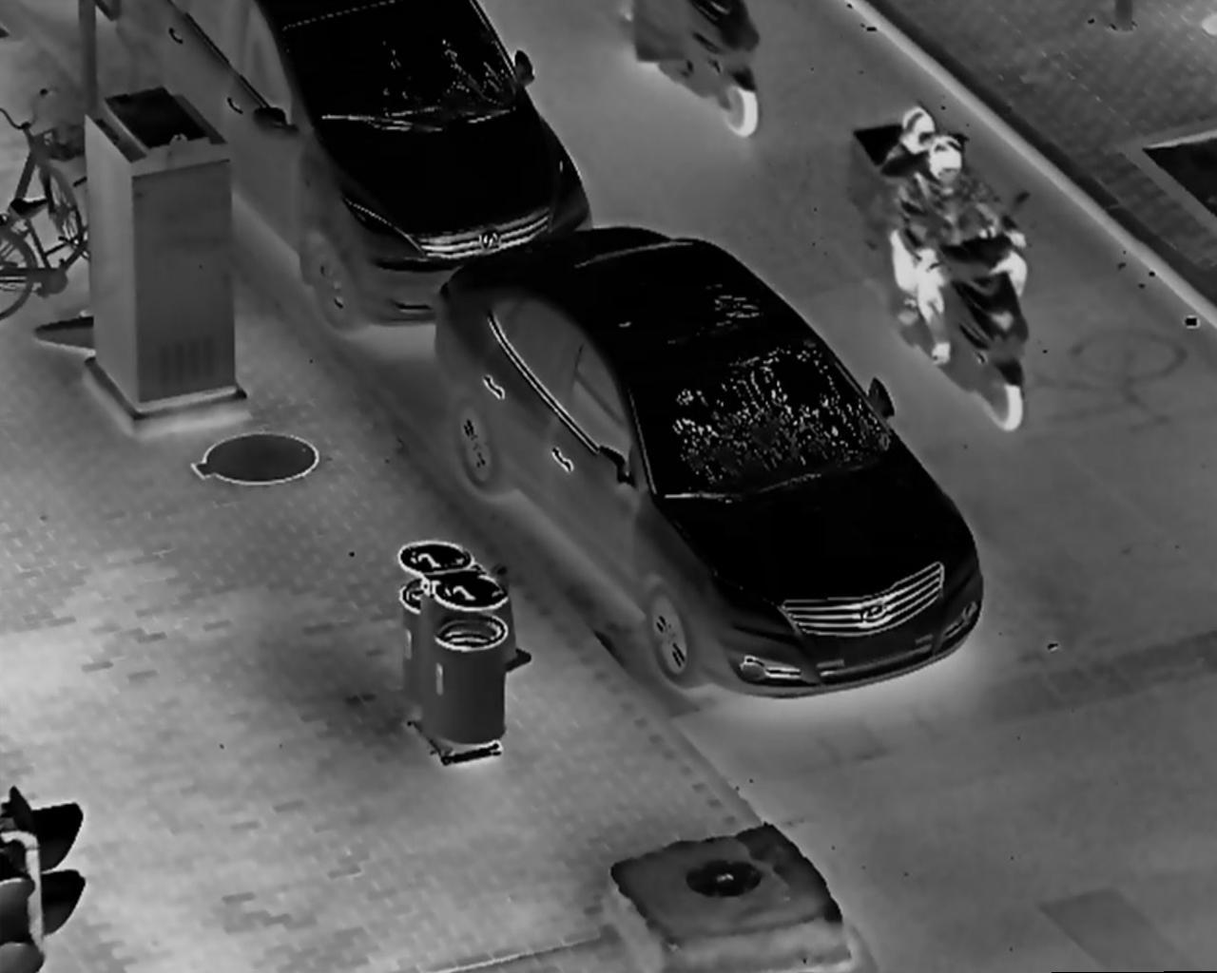person: (891, 139, 1030, 368), (881, 106, 938, 324)
